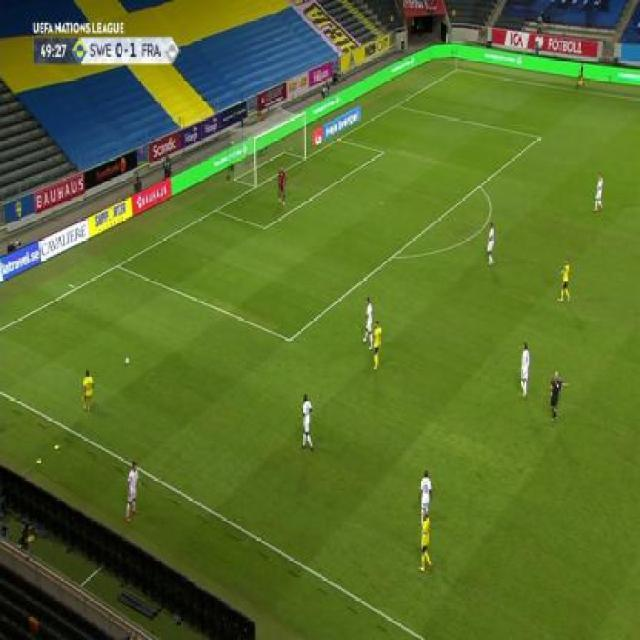ball: (124, 356, 132, 367)
player: (547, 368, 569, 430), (416, 510, 435, 575), (124, 460, 143, 522), (299, 391, 316, 453), (416, 467, 435, 521), (517, 342, 533, 399), (368, 318, 384, 371), (361, 294, 375, 345), (81, 368, 95, 413), (558, 257, 572, 302), (484, 222, 497, 267), (592, 173, 605, 213), (276, 164, 287, 204), (577, 62, 586, 90)
